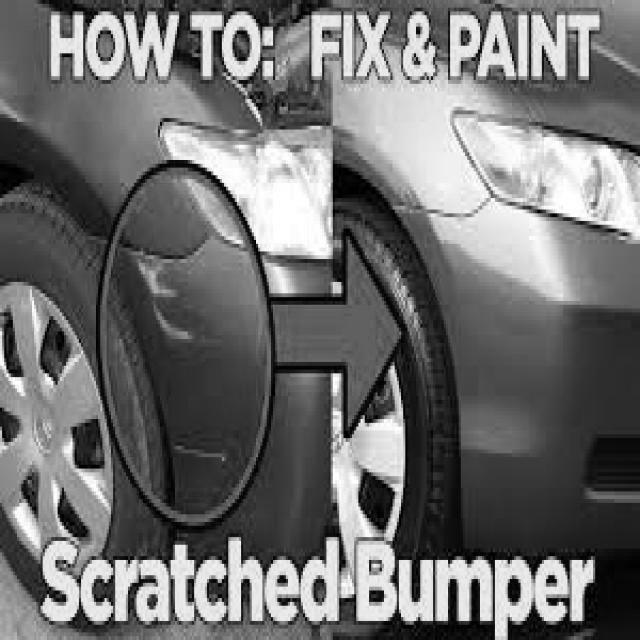front-bumper-dent: (54, 198, 337, 594)
